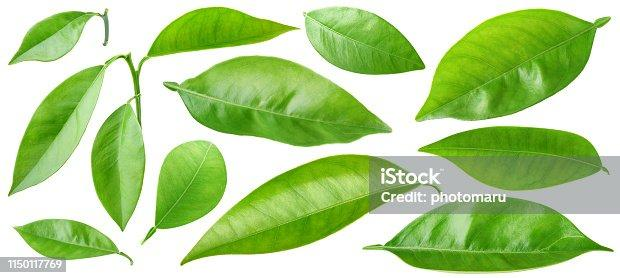Healthy Citrus: (426, 10, 602, 119), (190, 55, 392, 145), (195, 162, 360, 264), (11, 67, 104, 195), (306, 9, 426, 75), (145, 7, 298, 52), (158, 140, 228, 221), (93, 115, 147, 213), (7, 8, 96, 65), (19, 224, 118, 259)
